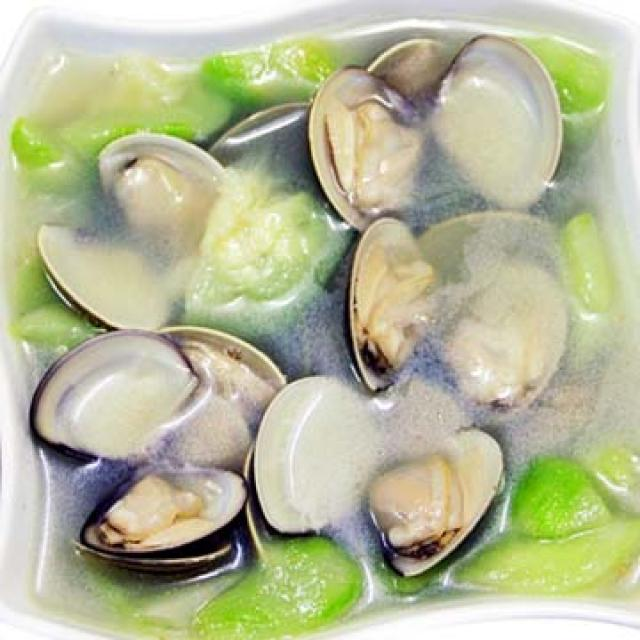Wet: (8, 0, 600, 596)
